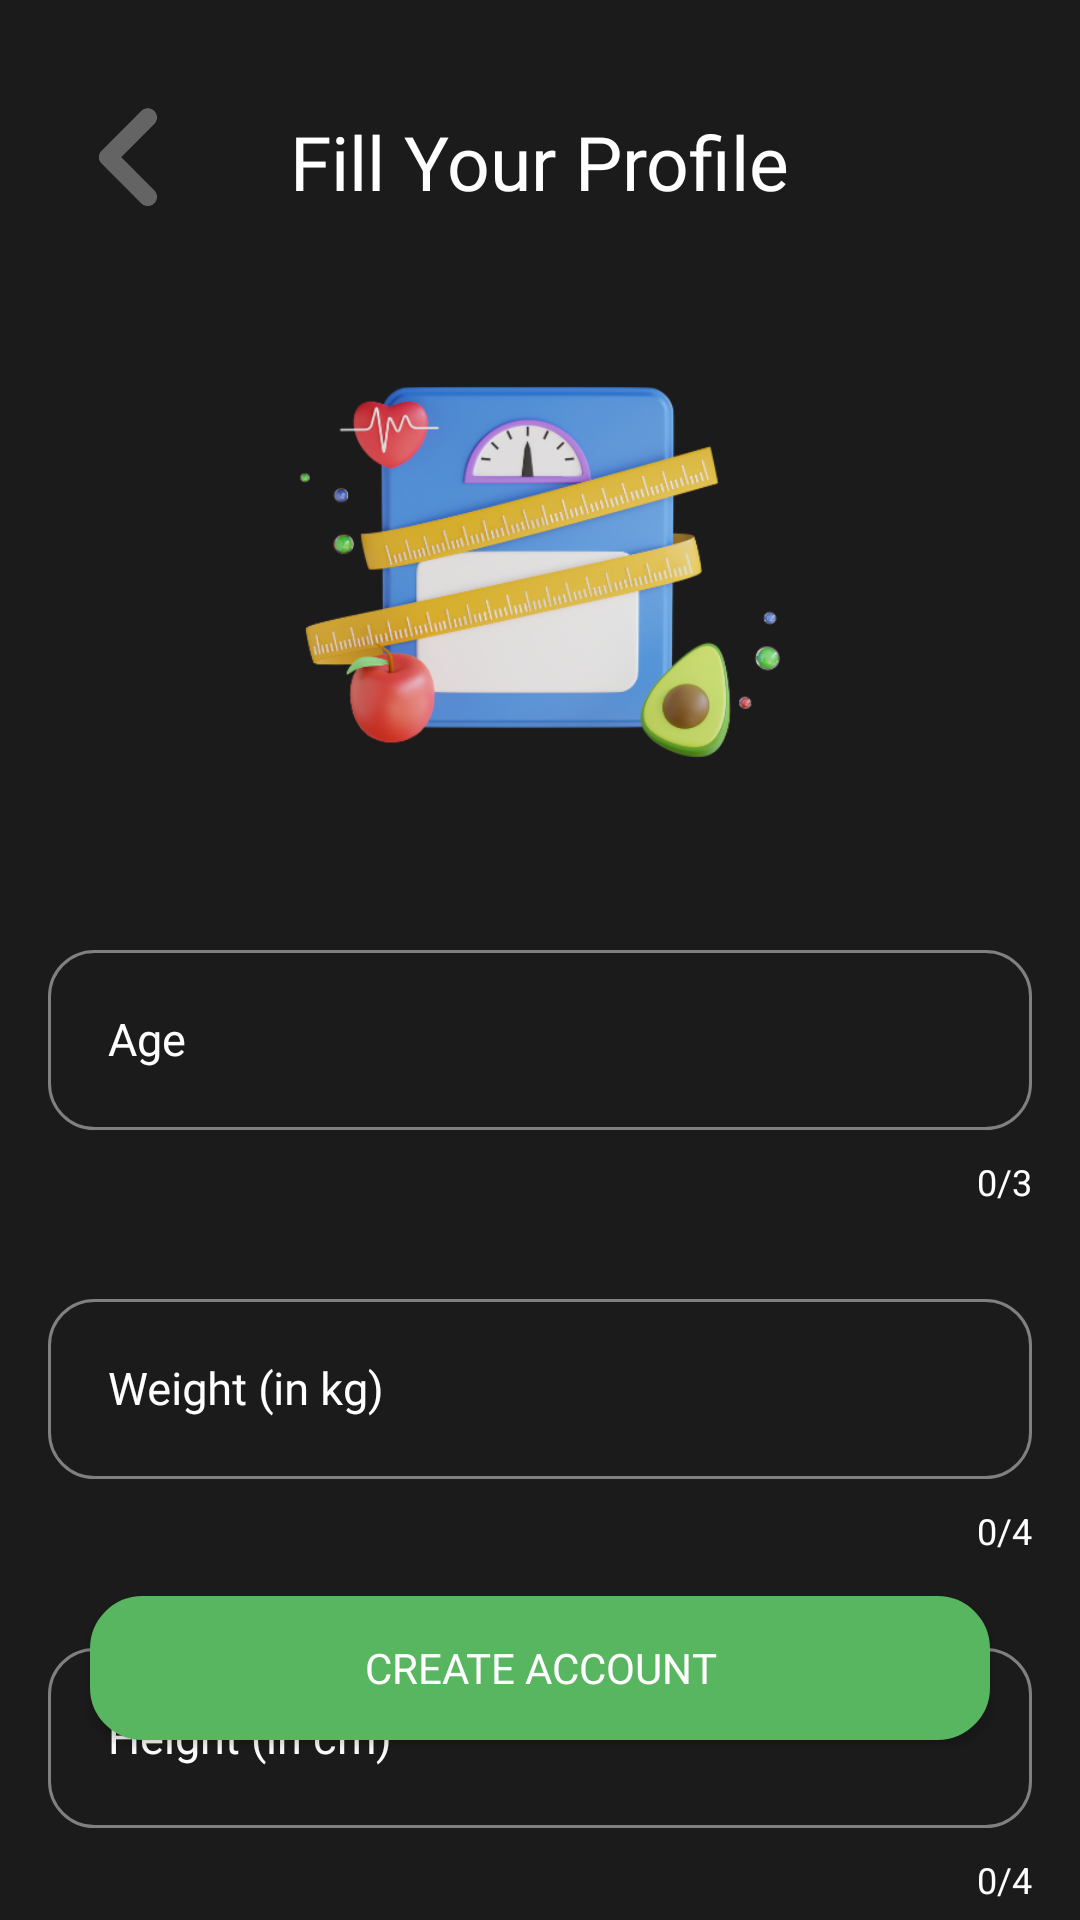

Where icons sit on this 1080px×1920px app screen, as (x1, y1, x2, y2):
backbutton: (99, 108, 157, 206)
